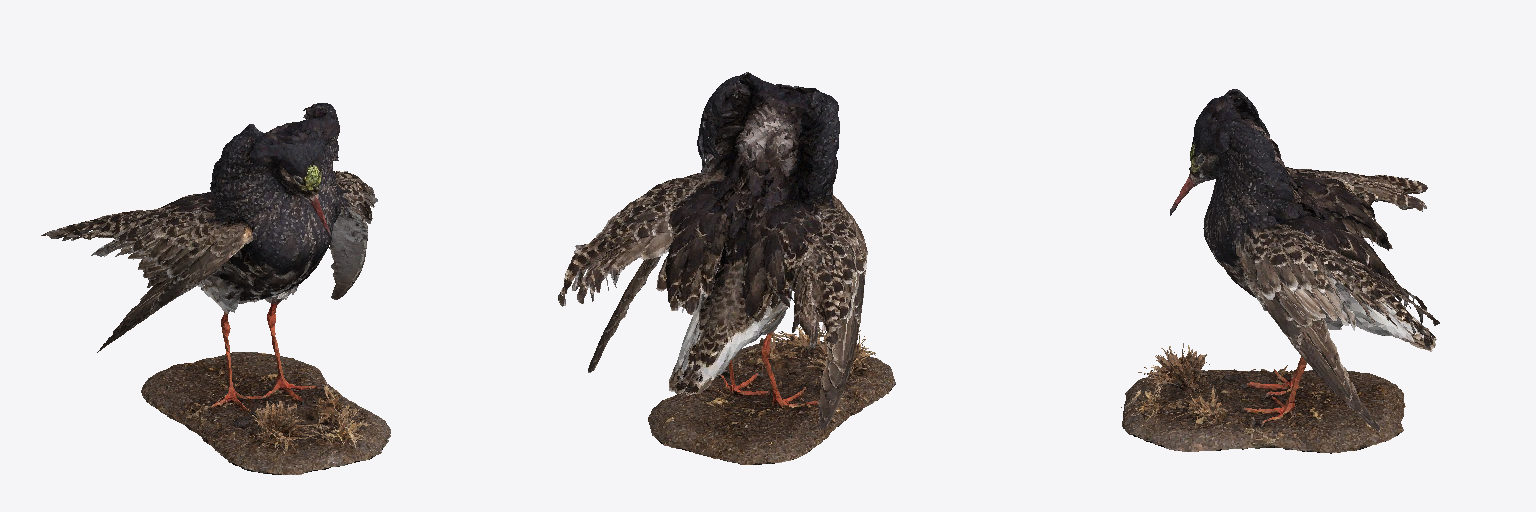
The picture shows the model from 3 angles: view 1: azimuth 30°, elevation 25°; view 2: azimuth 150°, elevation 25°; view 3: azimuth 270°, elevation 25°; orthographic projection.
Size of the model in its own units: 0.2382 by 0.2485 by 0.2314.
Materials: 1 (1 with a texture image).